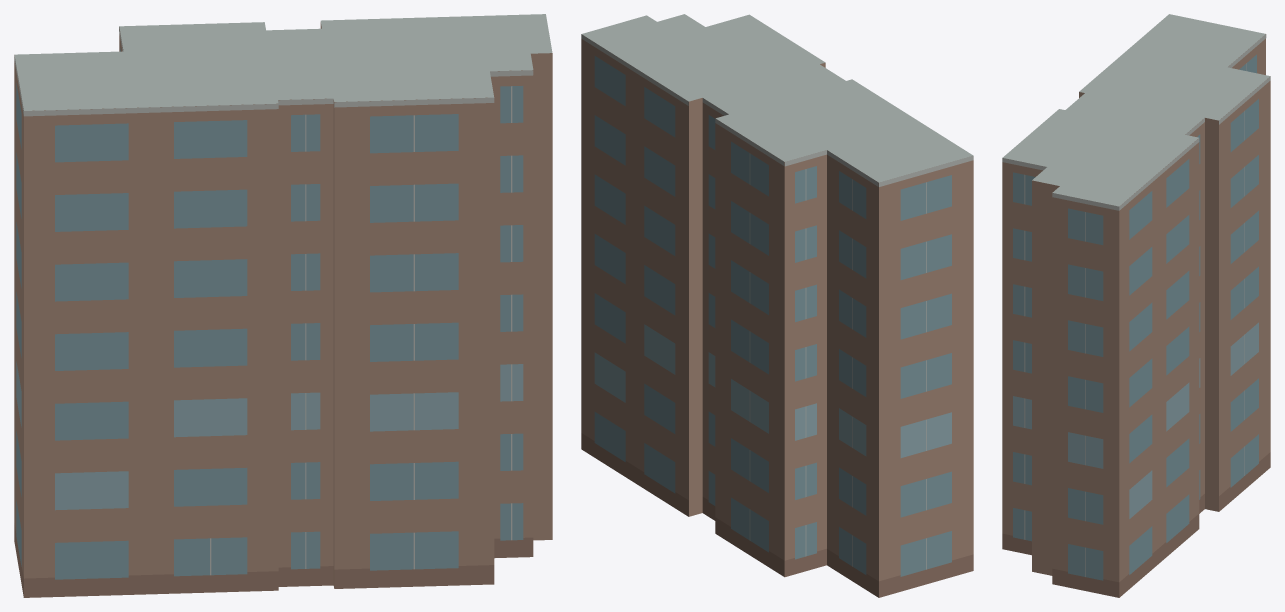
The model's file is survey-upis-33029445.glb.
The picture shows the model from 3 angles, left to right: view 1: azimuth 30°, elevation 25°; view 2: azimuth 150°, elevation 25°; view 3: azimuth 270°, elevation 25°; orthographic projection. The views are drawn at different scales.
Visible parts, largest first — view 1: survey-upis-33029445.tmp; view 2: survey-upis-33029445.tmp; view 3: survey-upis-33029445.tmp.
Part boxes in pixels (x1=…): survey-upis-33029445.tmp: x1=14, y1=14, x2=552, y2=597; survey-upis-33029445.tmp: x1=581, y1=14, x2=973, y2=597; survey-upis-33029445.tmp: x1=1002, y1=14, x2=1270, y2=597.
Bounding box in the file's own units: 23.33 × 22.1 × 13.73.
